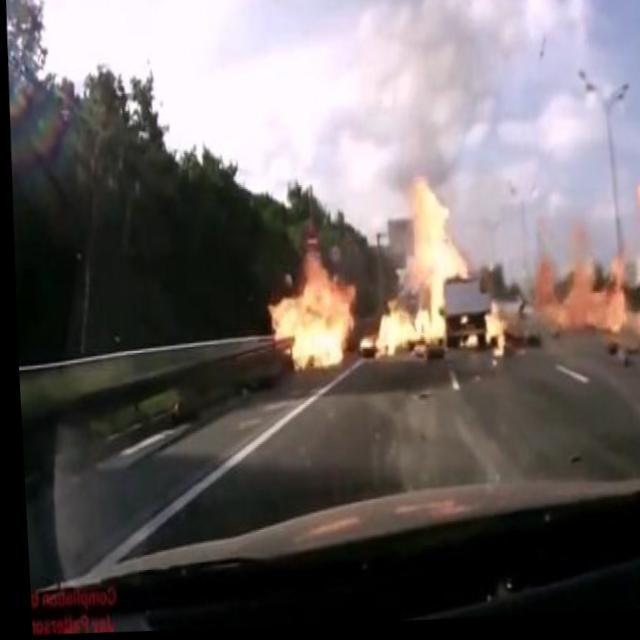fire: (345, 168, 512, 374), (516, 169, 640, 365), (256, 219, 352, 390)
